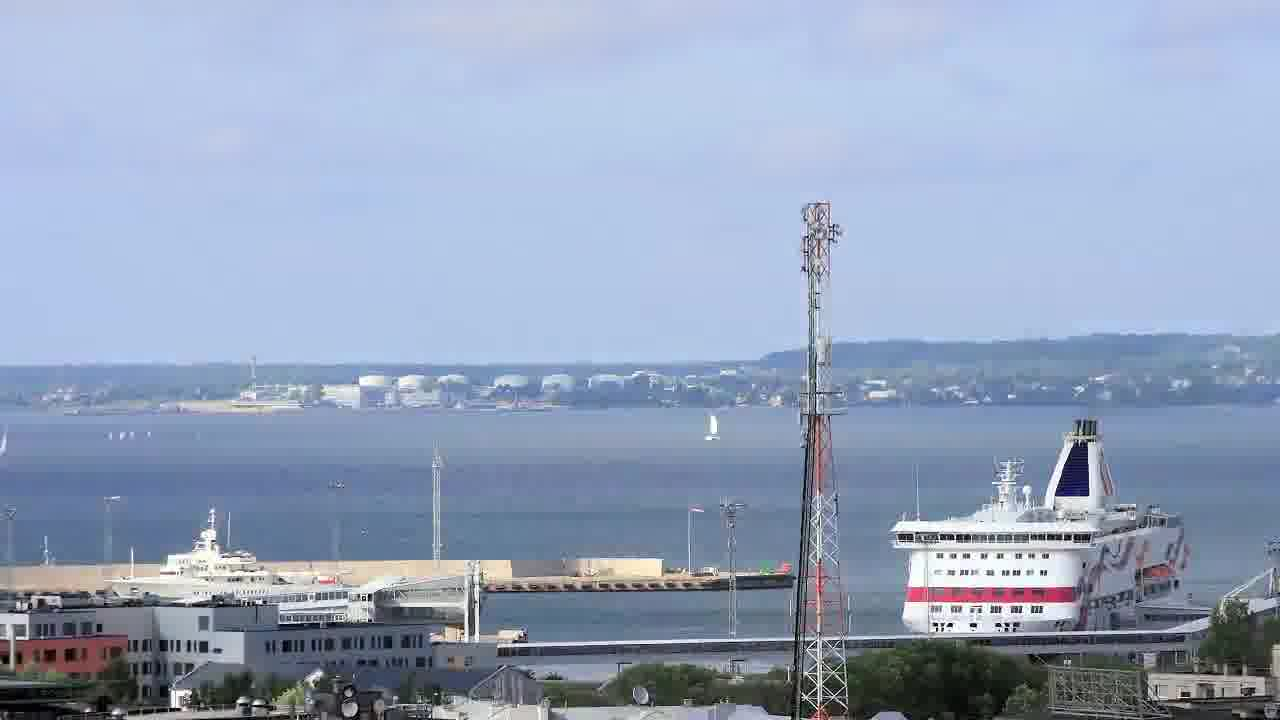type-2: (696, 399, 751, 454)
type-3: (868, 415, 1225, 638), (84, 537, 359, 610)
